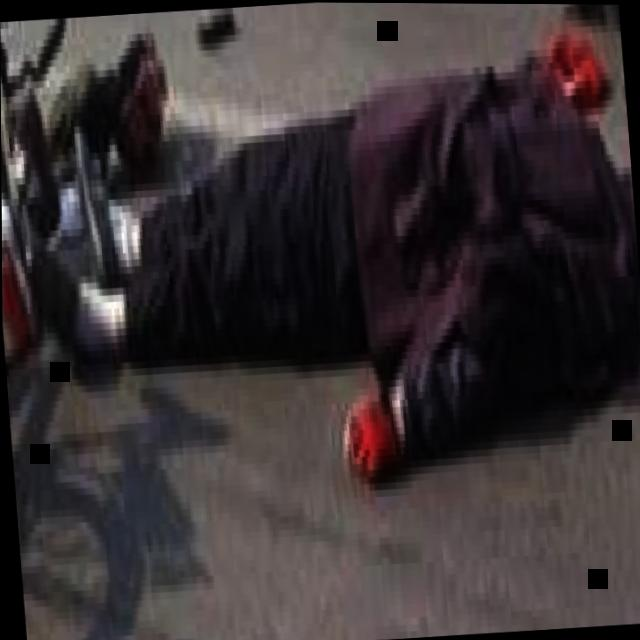Fall-Detected: (0, 0, 640, 528)
